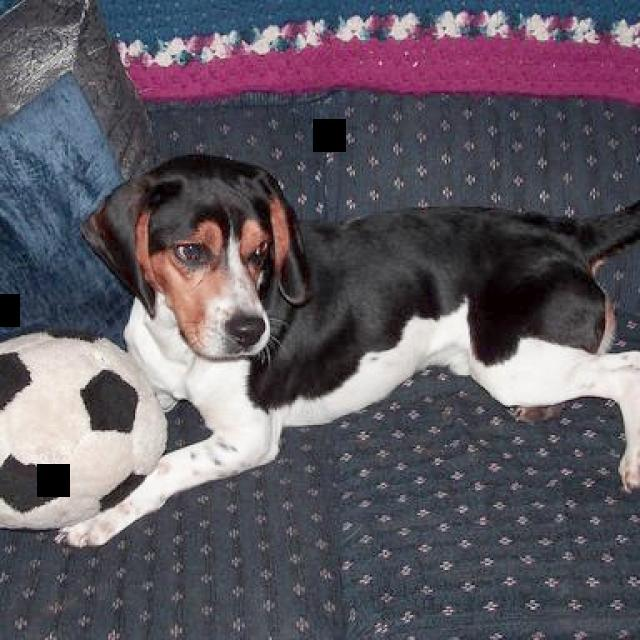adult_dog: (62, 151, 640, 551)
